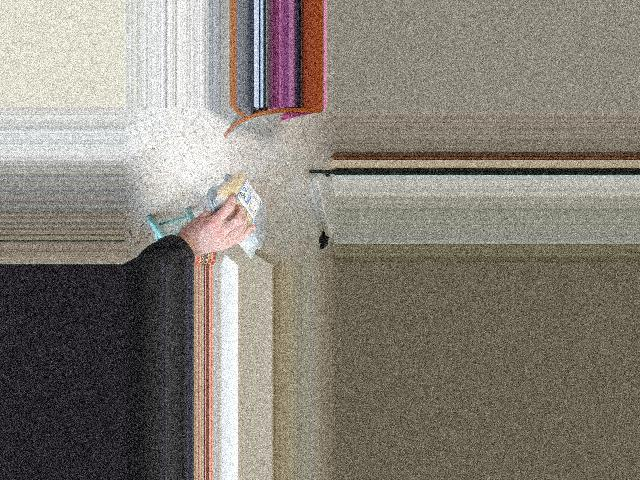cheese: (221, 162, 260, 254)
